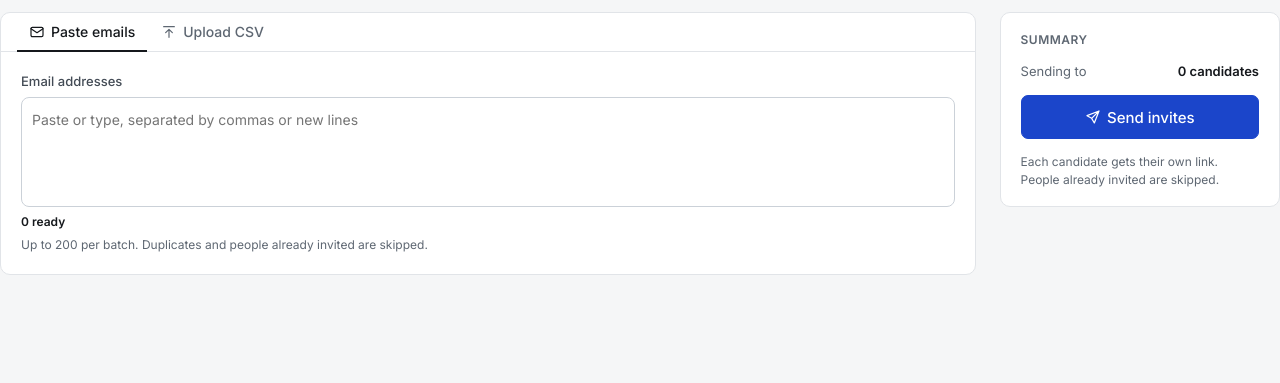
it: InviteCandidatesForm › shows no '…more' line for 20 or fewer invalid entries
The image size is (1280, 383).
Type "nope" into the text box labelled "Email addresses" at x=488, y=121, box x1=32 y1=108 x2=944 y2=134
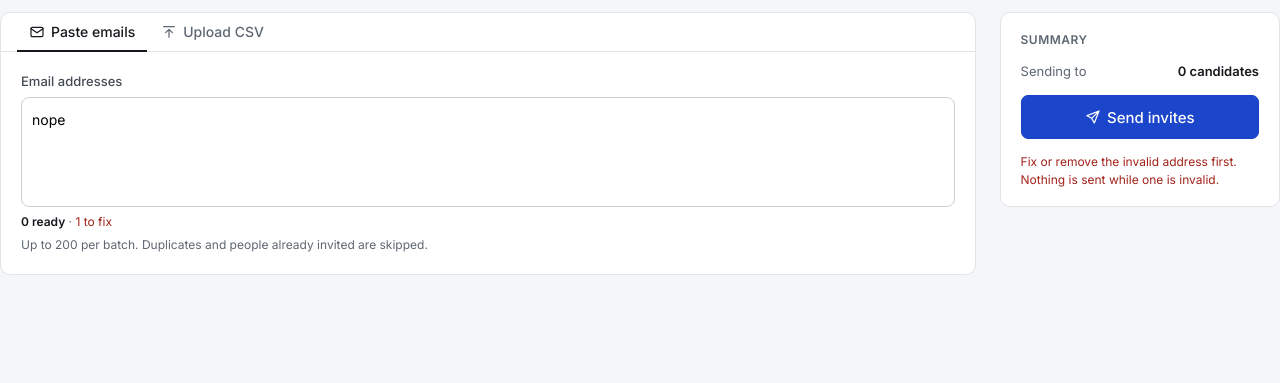
Click the button "Send invites" at x=1140, y=117, box x1=1021 y1=95 x2=1259 y2=139
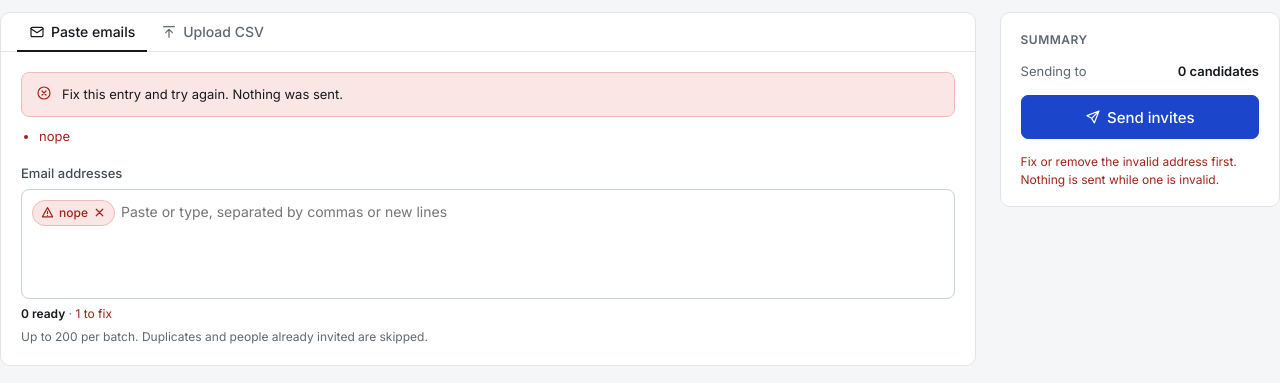
Expected: the list item reads "nope", x1=39 y1=128 x2=70 y2=144
